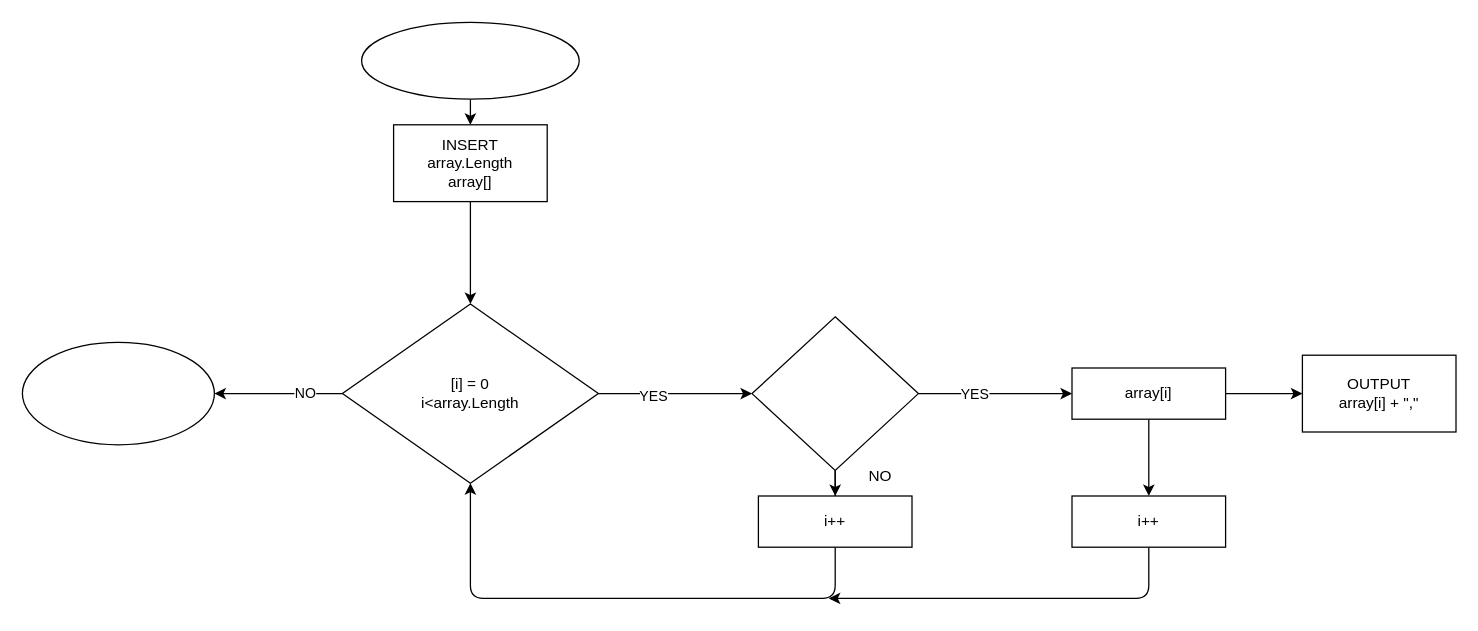
The diagram is 1478 pixels wide and 631 high, and some of its shapes have lost their labels. Here are the shapes that lost their labels. From the top down, the centre of each, then its label:
(x=469, y=60): START
(x=117, y=393): END
(x=834, y=393): i <=3
